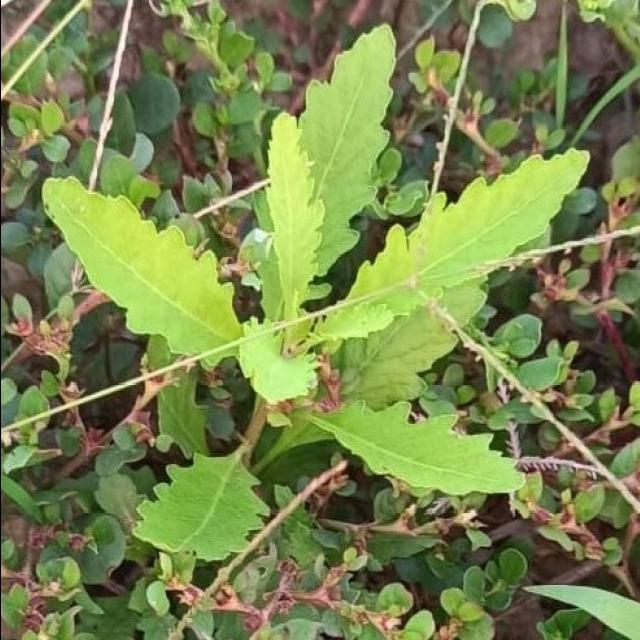weed: (40, 26, 586, 495), (133, 450, 266, 562)
